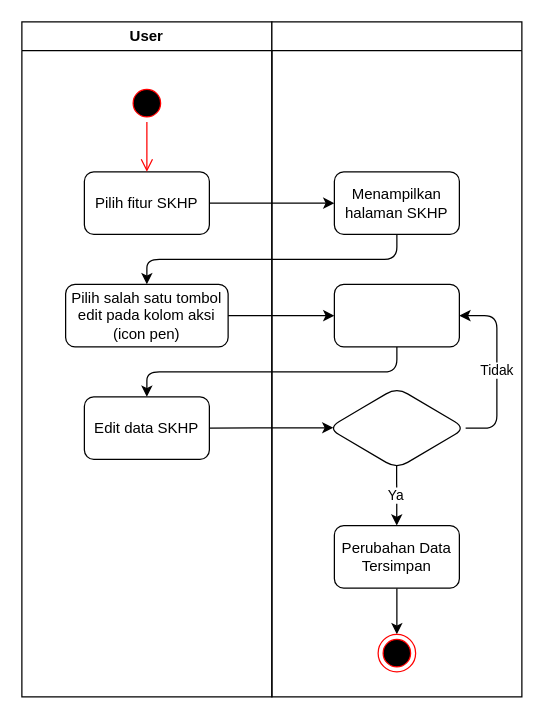
Image size: 544x719. Some labels were removed from this diagram. The box of each missing label's shape, as (x1, y1, x2, y2) in pixels:
Admin: (271, 21, 522, 697)
Menampilkan halaman edit data: (333, 283, 459, 347)
Validasi Data: (327, 386, 466, 469)
